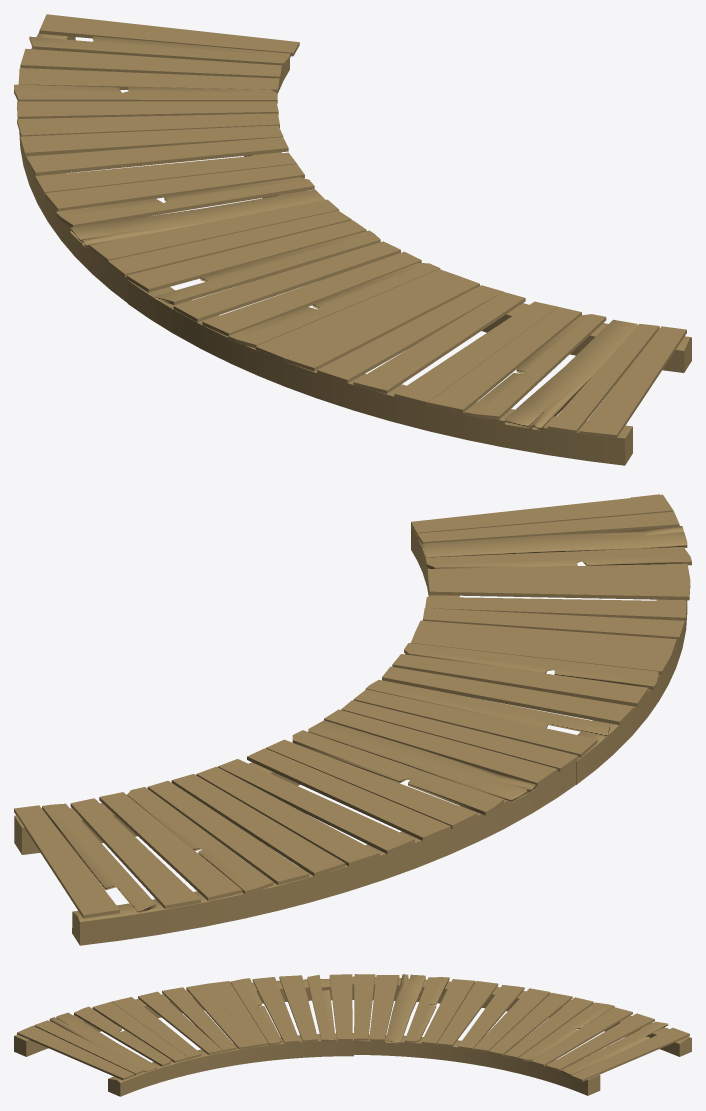
The model's file is Road_Beam_Simple_02.fbx.
3 views of the same model, one above another, from view 1: azimuth 30°, elevation 25°; view 2: azimuth 150°, elevation 25°; view 3: azimuth 270°, elevation 25° (orthographic). The views are drawn at different scales.
Parts seen in each view (by area): view 1: Road_Beam_Simple_02; view 2: Road_Beam_Simple_02; view 3: Road_Beam_Simple_02.
Boxes of the visible parts, box(x1,y1,x2,y2) form: Road_Beam_Simple_02: box(14, 14, 691, 465); Road_Beam_Simple_02: box(14, 494, 691, 945); Road_Beam_Simple_02: box(14, 974, 691, 1096).
Size of the model in its own units: 236 by 18.81 by 639.
